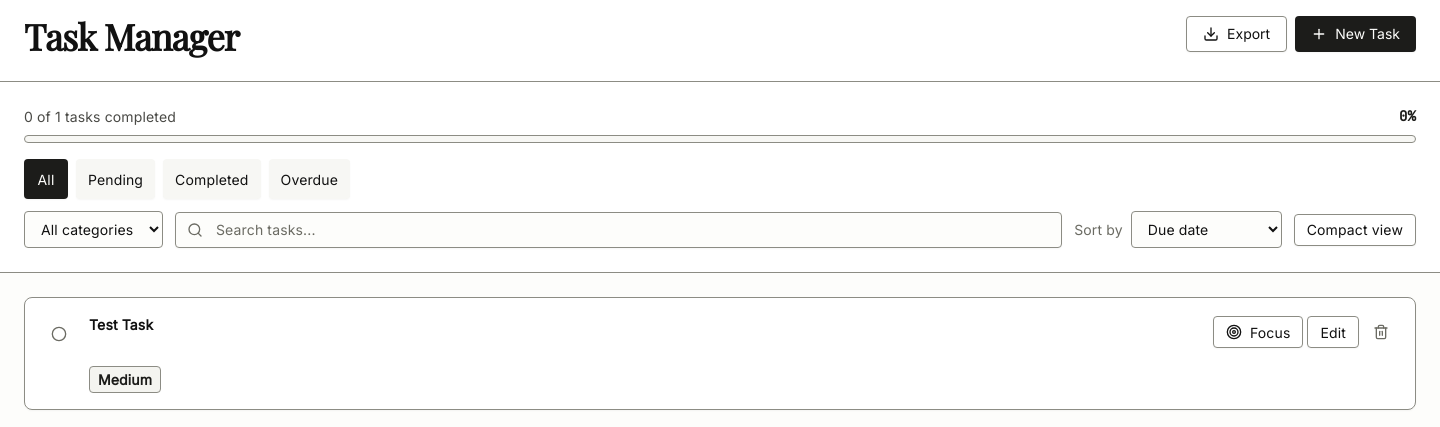
Test: TaskManager Search Clear Button › shows clear button when typing and clears input on click
Type something
Type "Task" into the search field labelled "Search tasks" at (619,230), box [175, 212, 1062, 248]
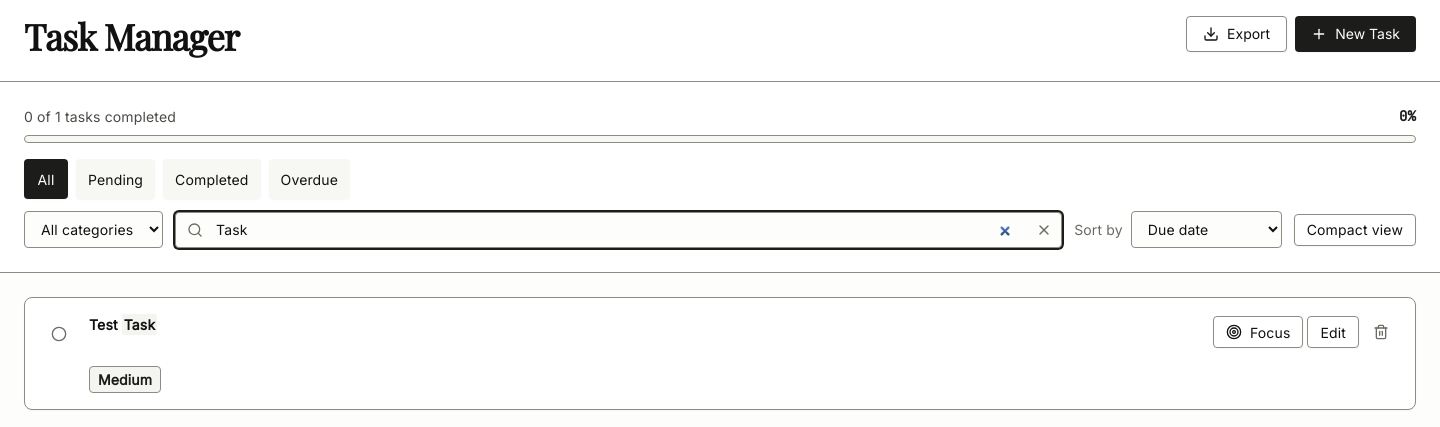
Expected: the button named "Clear search" is shown
Click clear button
Click the button named "Clear search" at (1044,230), box [1026, 212, 1062, 248]
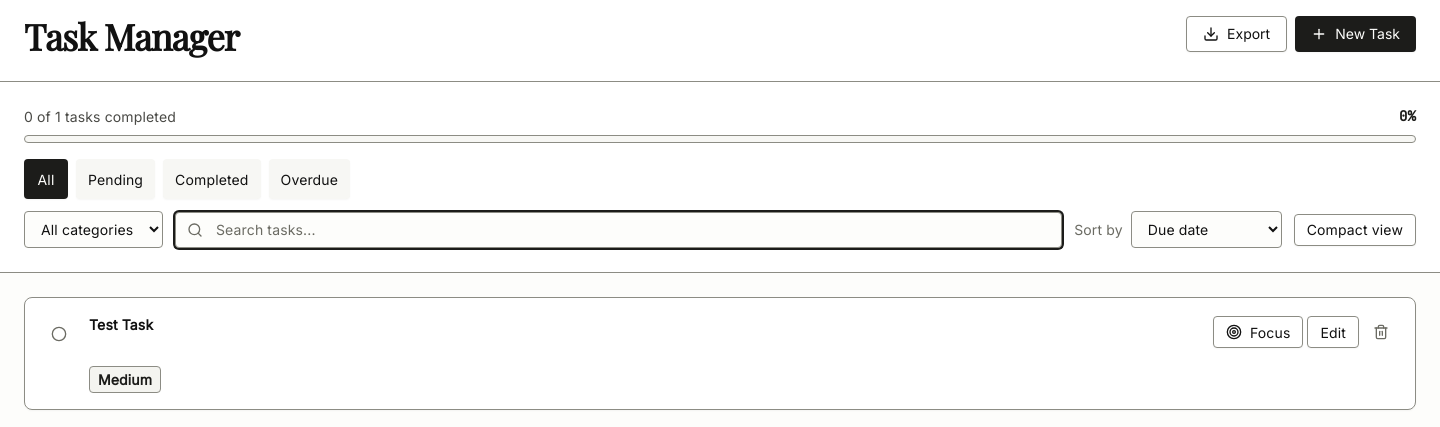
Expected: the search field labelled "Search tasks" is empty, [175, 212, 1062, 248]
